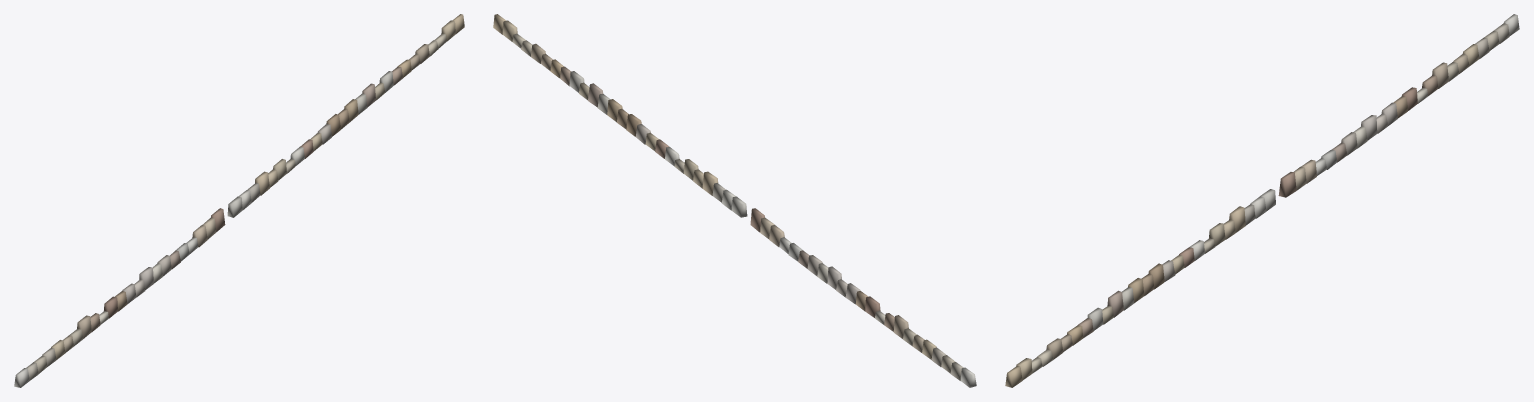
File: farm_-6_3_far.glb
The picture shows the model from 3 angles, left to right: view 1: azimuth 90°, elevation 25°; view 2: azimuth 150°, elevation 25°; view 3: azimuth 270°, elevation 25°; orthographic projection. The views are drawn at different scales.
Visible parts, largest first — view 1: geometry_0; view 2: geometry_0; view 3: geometry_0.
Part boxes in pixels (x1,y1,x2,y2): geometry_0: (14,14,464,387); geometry_0: (493,14,976,387); geometry_0: (1005,14,1519,387).
Size of the model in its own units: 68.93 by 3.39 by 38.72.
